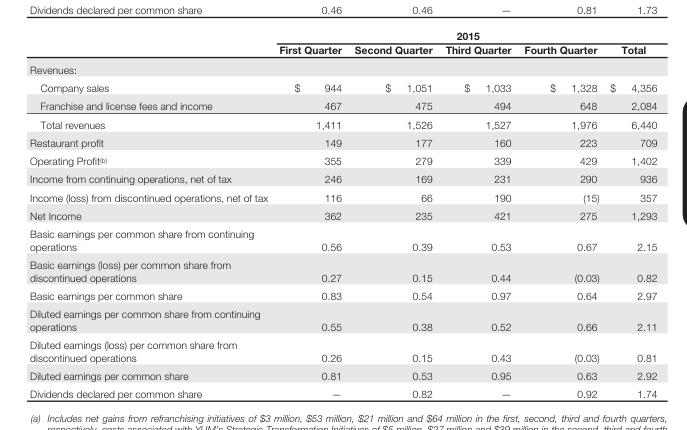table: (29, 29, 656, 399)
table column: (29, 29, 272, 399), (347, 29, 438, 399), (517, 29, 604, 399), (438, 29, 517, 399), (272, 29, 347, 399), (604, 29, 656, 399)
table column header: (29, 29, 656, 59)
table projected row header: (29, 59, 656, 77)
table row: (29, 223, 656, 254), (29, 254, 656, 285), (29, 303, 656, 334), (29, 334, 656, 365), (29, 95, 656, 114), (29, 114, 656, 133), (29, 365, 656, 384), (29, 59, 656, 77), (29, 77, 656, 95), (29, 133, 656, 151), (29, 151, 656, 169), (29, 169, 656, 187), (29, 187, 656, 205), (29, 205, 656, 223), (29, 285, 656, 303), (29, 42, 656, 59), (29, 384, 656, 399), (29, 29, 656, 42)
table spanning cell: (272, 29, 656, 42)
